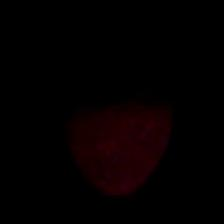fertile: (52, 44, 176, 206)
